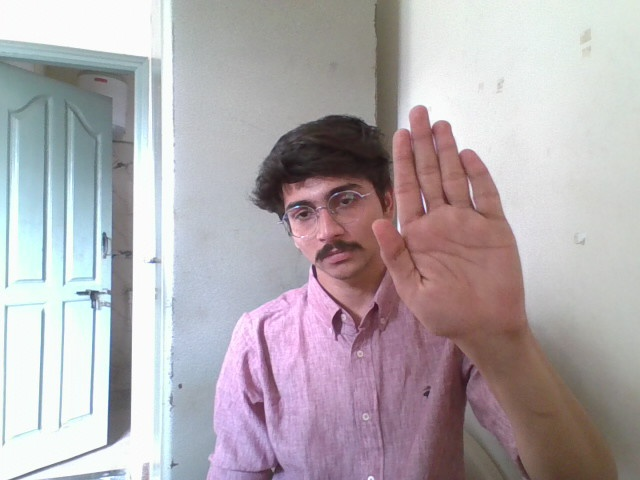hello: (364, 82, 557, 394)
